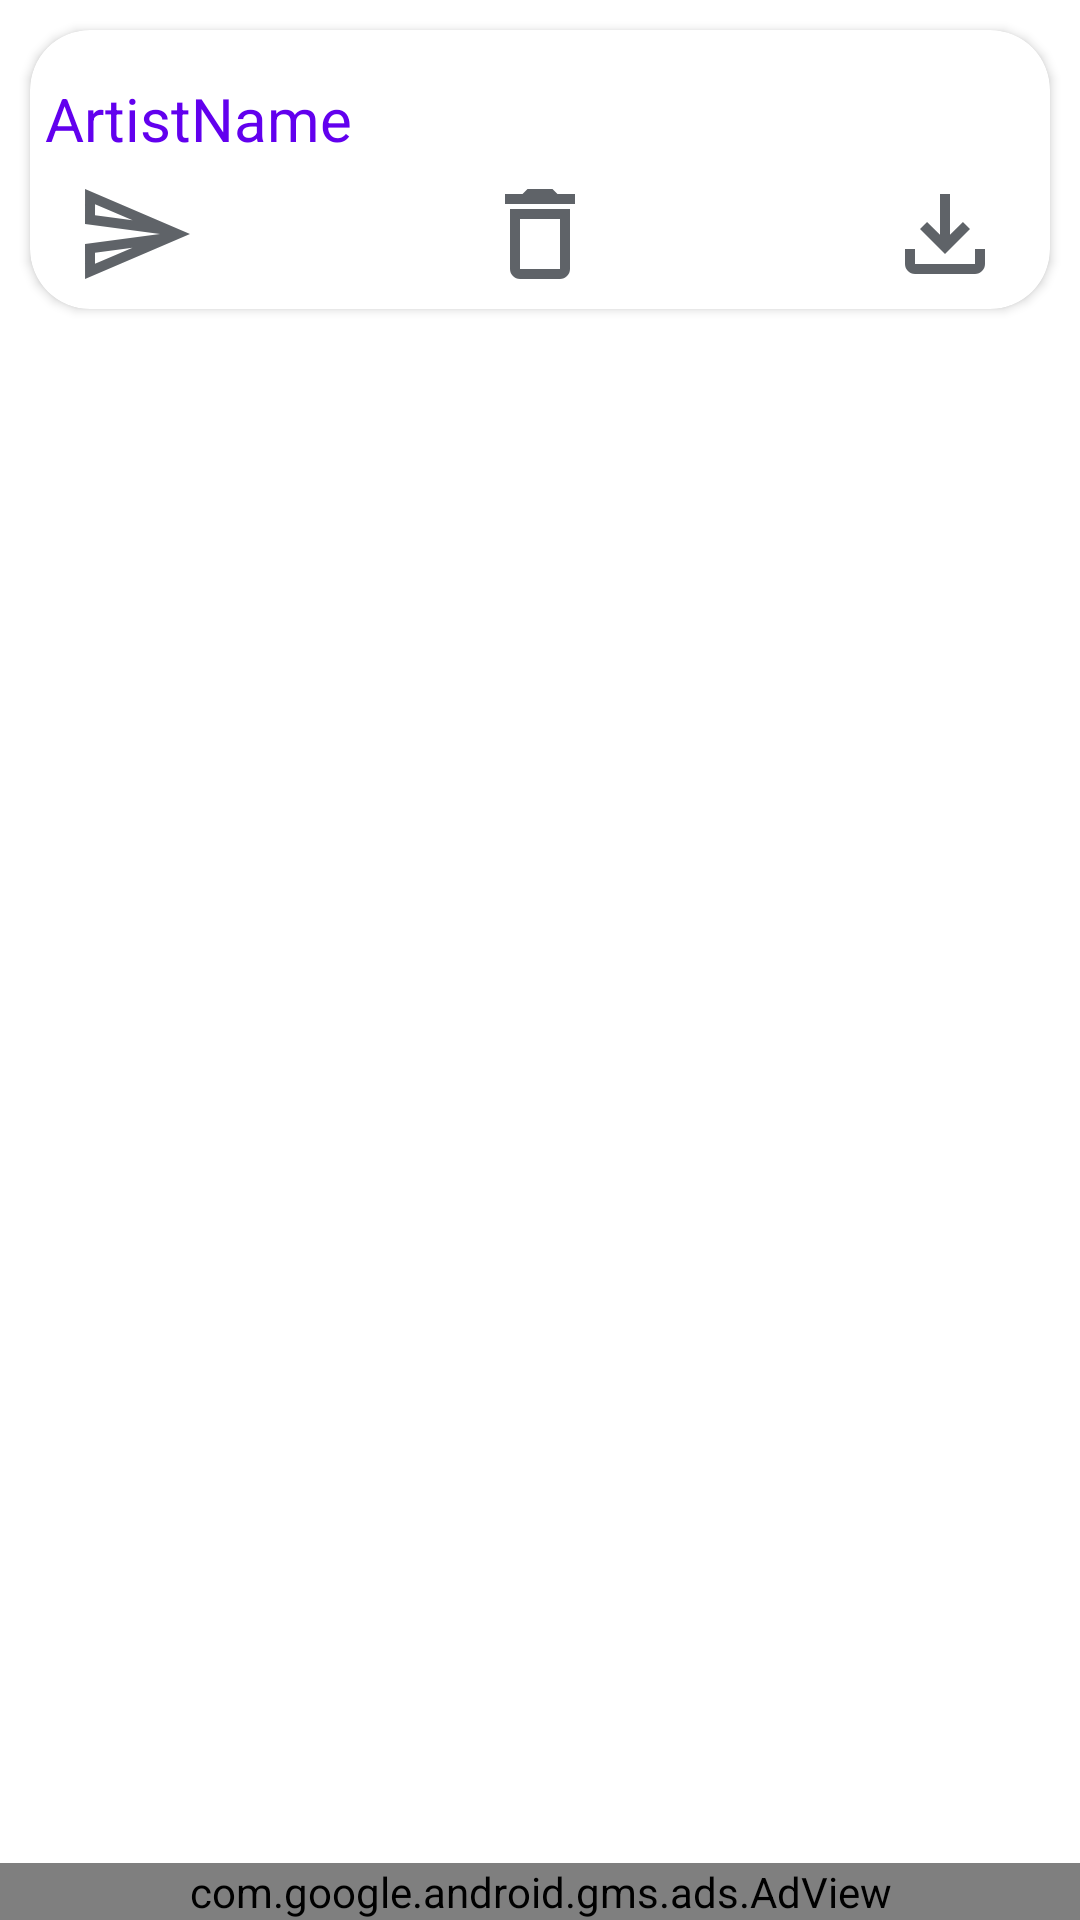

Locate icon controls on the screen. Image size 1080 x 1920, boxes as (left=x1, top=y1, right=x2, bottom=y2).
delete: (left=505, top=189, right=575, bottom=279)
file download: (left=905, top=194, right=985, bottom=274)
send: (left=85, top=189, right=190, bottom=279)
